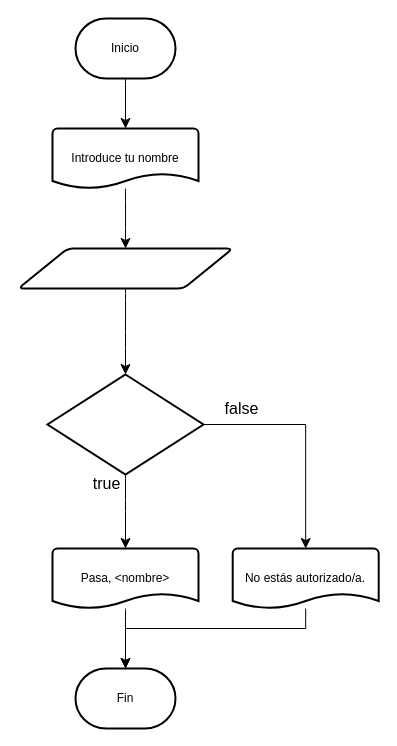
The diagram is 397 pixels wide and 746 high, and some of its shapes have lost their labels. Here are the shapes that lost their labels. From the top down, the centre of each, then its label:
(125,268): <nombre>
(125,424): nombre==maria
